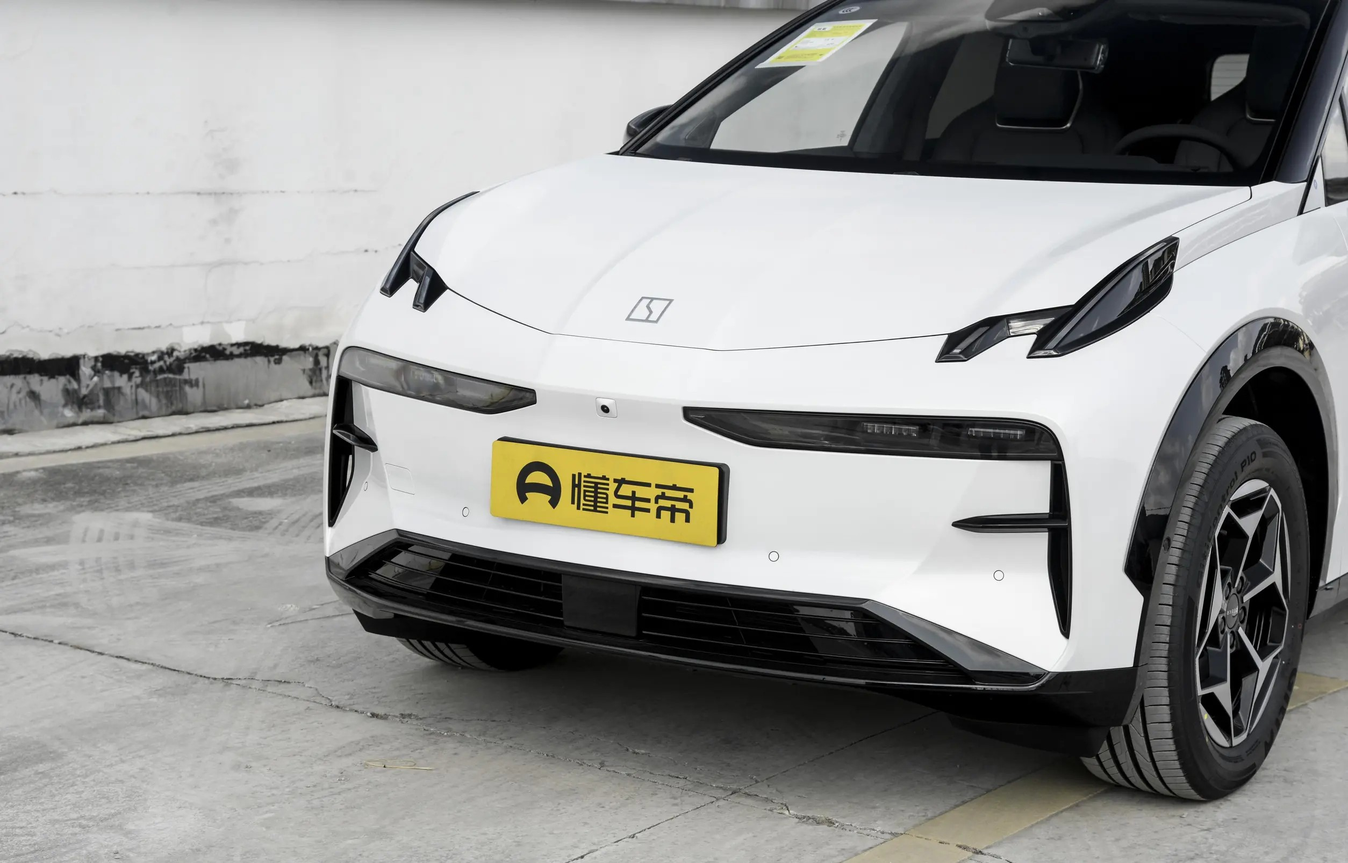ZEEKR: (625, 297, 673, 323)
